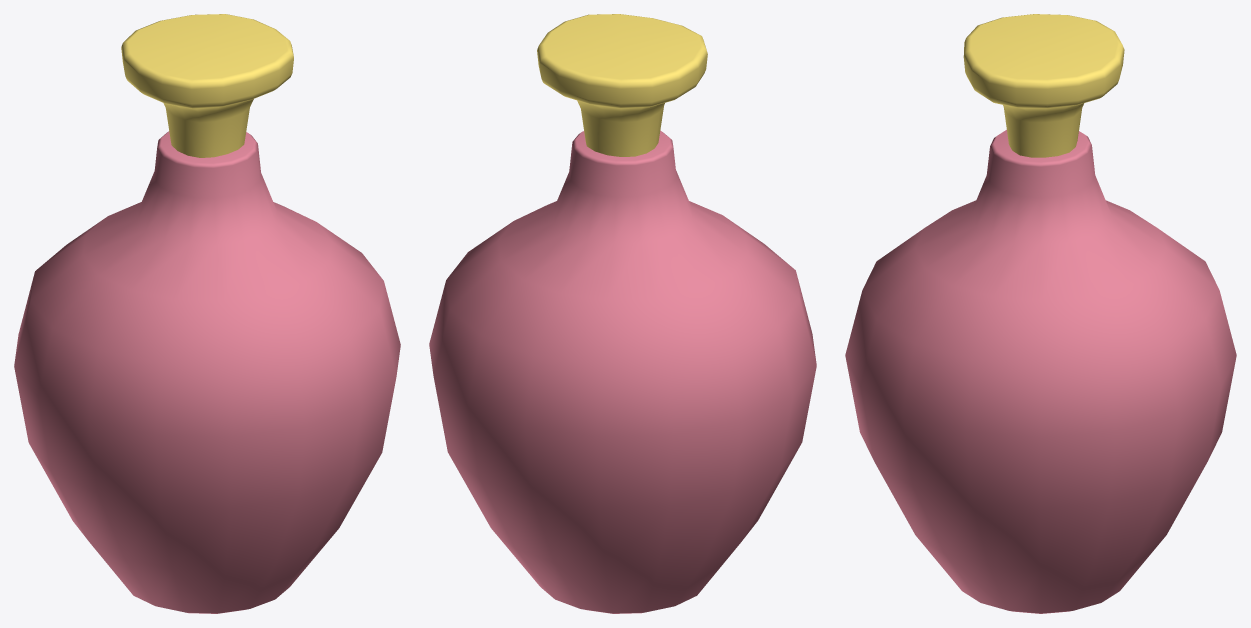
The model's file is Perfume_1.glb.
3 renders of one model, left to right at view 1: azimuth 30°, elevation 25°; view 2: azimuth 150°, elevation 25°; view 3: azimuth 270°, elevation 25°, orthographic.
Parts seen in each view (by area): view 1: Perfume_1; view 2: Perfume_1; view 3: Perfume_1.
Part boxes in pixels (x1,y1,x2,y2): Perfume_1: (14, 14, 400, 613); Perfume_1: (429, 14, 816, 613); Perfume_1: (845, 14, 1236, 613).
Bounding box in the file's own units: 0.1335 × 0.202 × 0.1335.
1 material, 1 textured.
